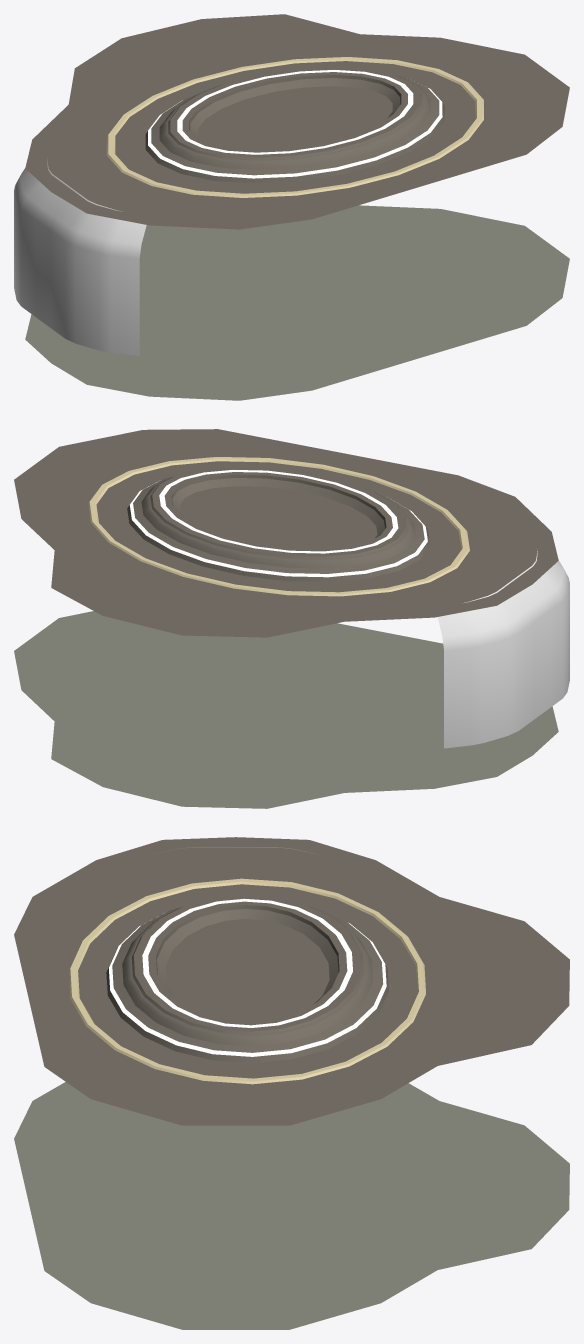
File: Room_ControlRoom_FloorCeilingGlass.fbx
3 views of the same model, one above another, from view 1: azimuth 30°, elevation 25°; view 2: azimuth 150°, elevation 25°; view 3: azimuth 270°, elevation 25° (orthographic). The views are drawn at different scales.
Parts seen in each view (by area): view 1: floor & ceiling; view 2: floor & ceiling; view 3: floor & ceiling.
Part boxes in pixels (x1=…): floor & ceiling: x1=14, y1=14, x2=569, y2=400; floor & ceiling: x1=14, y1=429, x2=569, y2=808; floor & ceiling: x1=14, y1=837, x2=569, y2=1329.
Size of the model in its own units: 1132 by 401 by 907.
